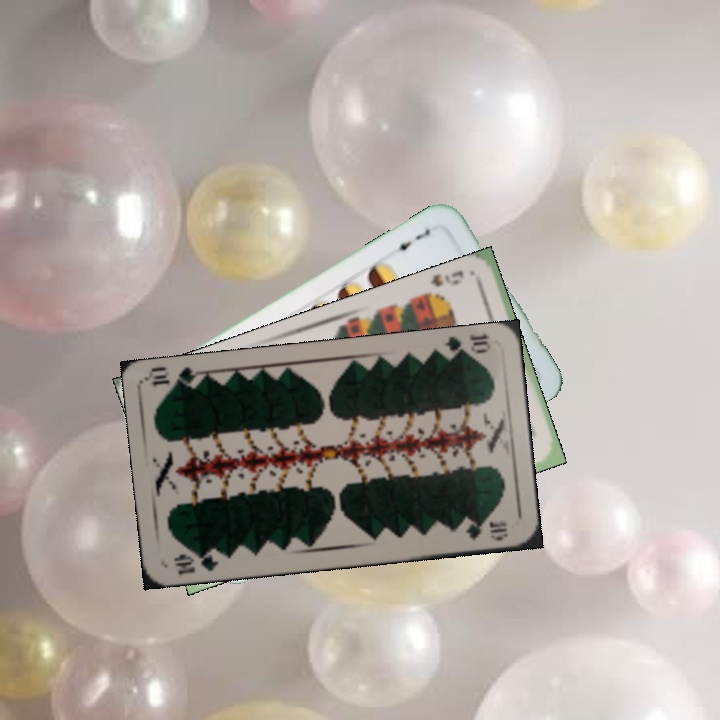E7: (389, 225, 433, 254)
G10: (436, 330, 492, 362), (170, 546, 221, 577)
S9: (417, 266, 467, 302)
